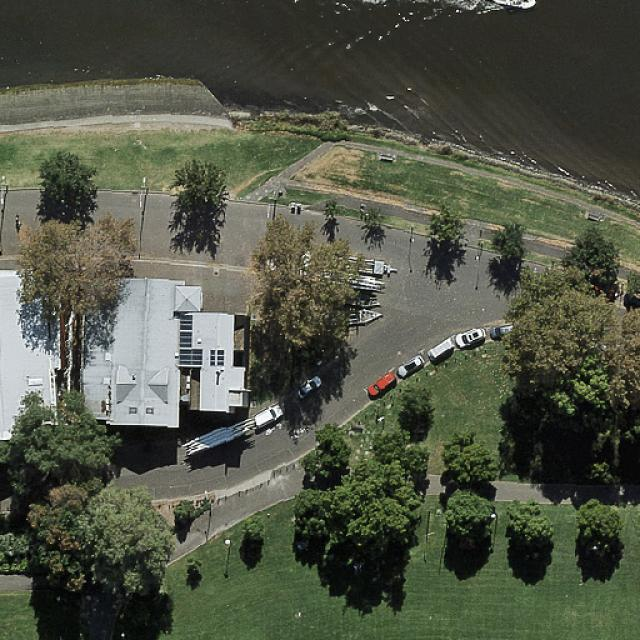Bike-Symbols: (293, 426, 309, 436), (261, 426, 276, 436)
